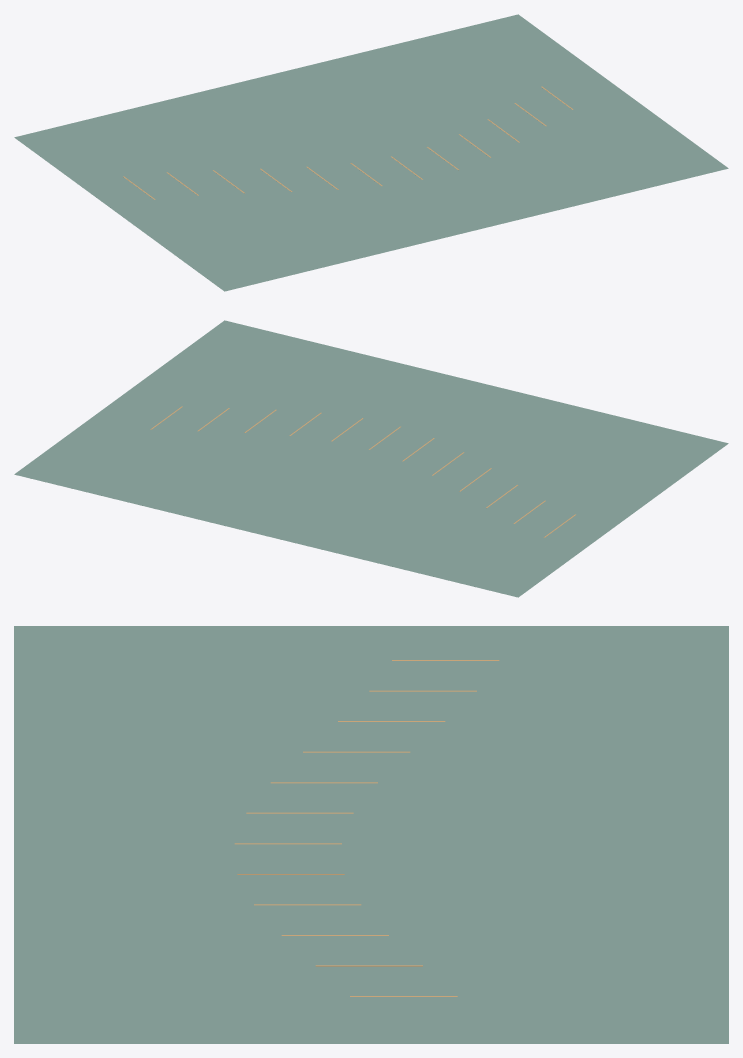
Rendered from 273_L120_L8_LayerReference.glb.
3 views of the same model, one above another, from view 1: azimuth 30°, elevation 25°; view 2: azimuth 150°, elevation 25°; view 3: azimuth 270°, elevation 25° (orthographic). The views are drawn at different scales.
Visible parts, largest first — view 1: 0000__PSMAT__dielectric; view 2: 0000__PSMAT__dielectric; view 3: 0000__PSMAT__dielectric.
Part boxes in pixels (bbox=[...]): 0000__PSMAT__dielectric: bbox=[14, 14, 728, 291]; 0000__PSMAT__dielectric: bbox=[14, 320, 728, 597]; 0000__PSMAT__dielectric: bbox=[14, 626, 728, 1043].
Size of the model in its own units: 0.506 by 0.000172 by 0.366.
